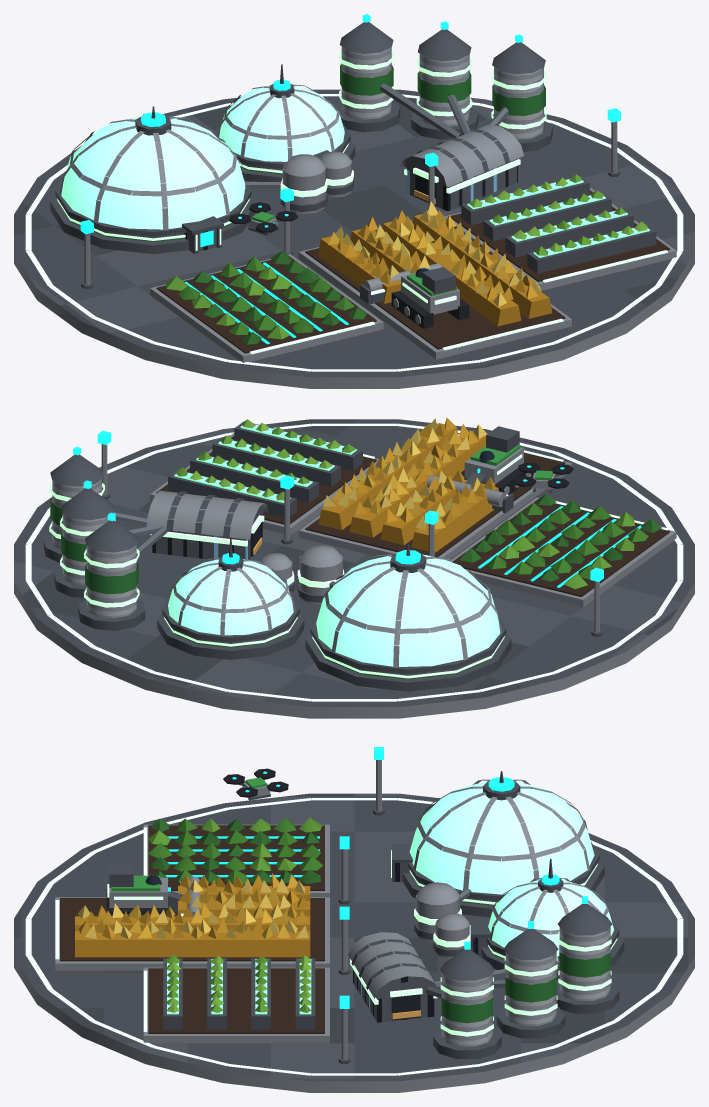
Rendered from farm_scifi_green.glb.
3 views of the same model, one above another, from view 1: azimuth 30°, elevation 25°; view 2: azimuth 150°, elevation 25°; view 3: azimuth 270°, elevation 25° (orthographic).
Visible parts, largest first — view 1: farm_scifi_green; view 2: farm_scifi_green; view 3: farm_scifi_green.
Boxes of the visible parts, box(x1,y1,x2,y2) form: farm_scifi_green: box(14, 14, 694, 388); farm_scifi_green: box(14, 417, 694, 718); farm_scifi_green: box(14, 747, 694, 1092).
Bounding box in the file's own units: 1.39 × 0.26 × 1.39.
Materials: 5 (1 with a texture image).
